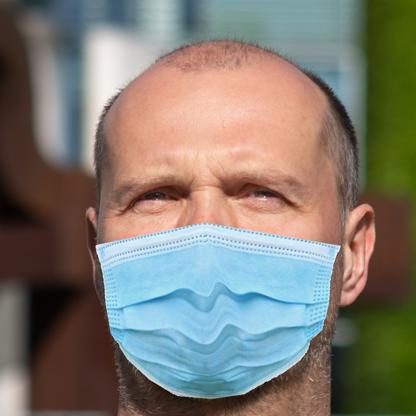mask: (95, 224, 333, 397)
